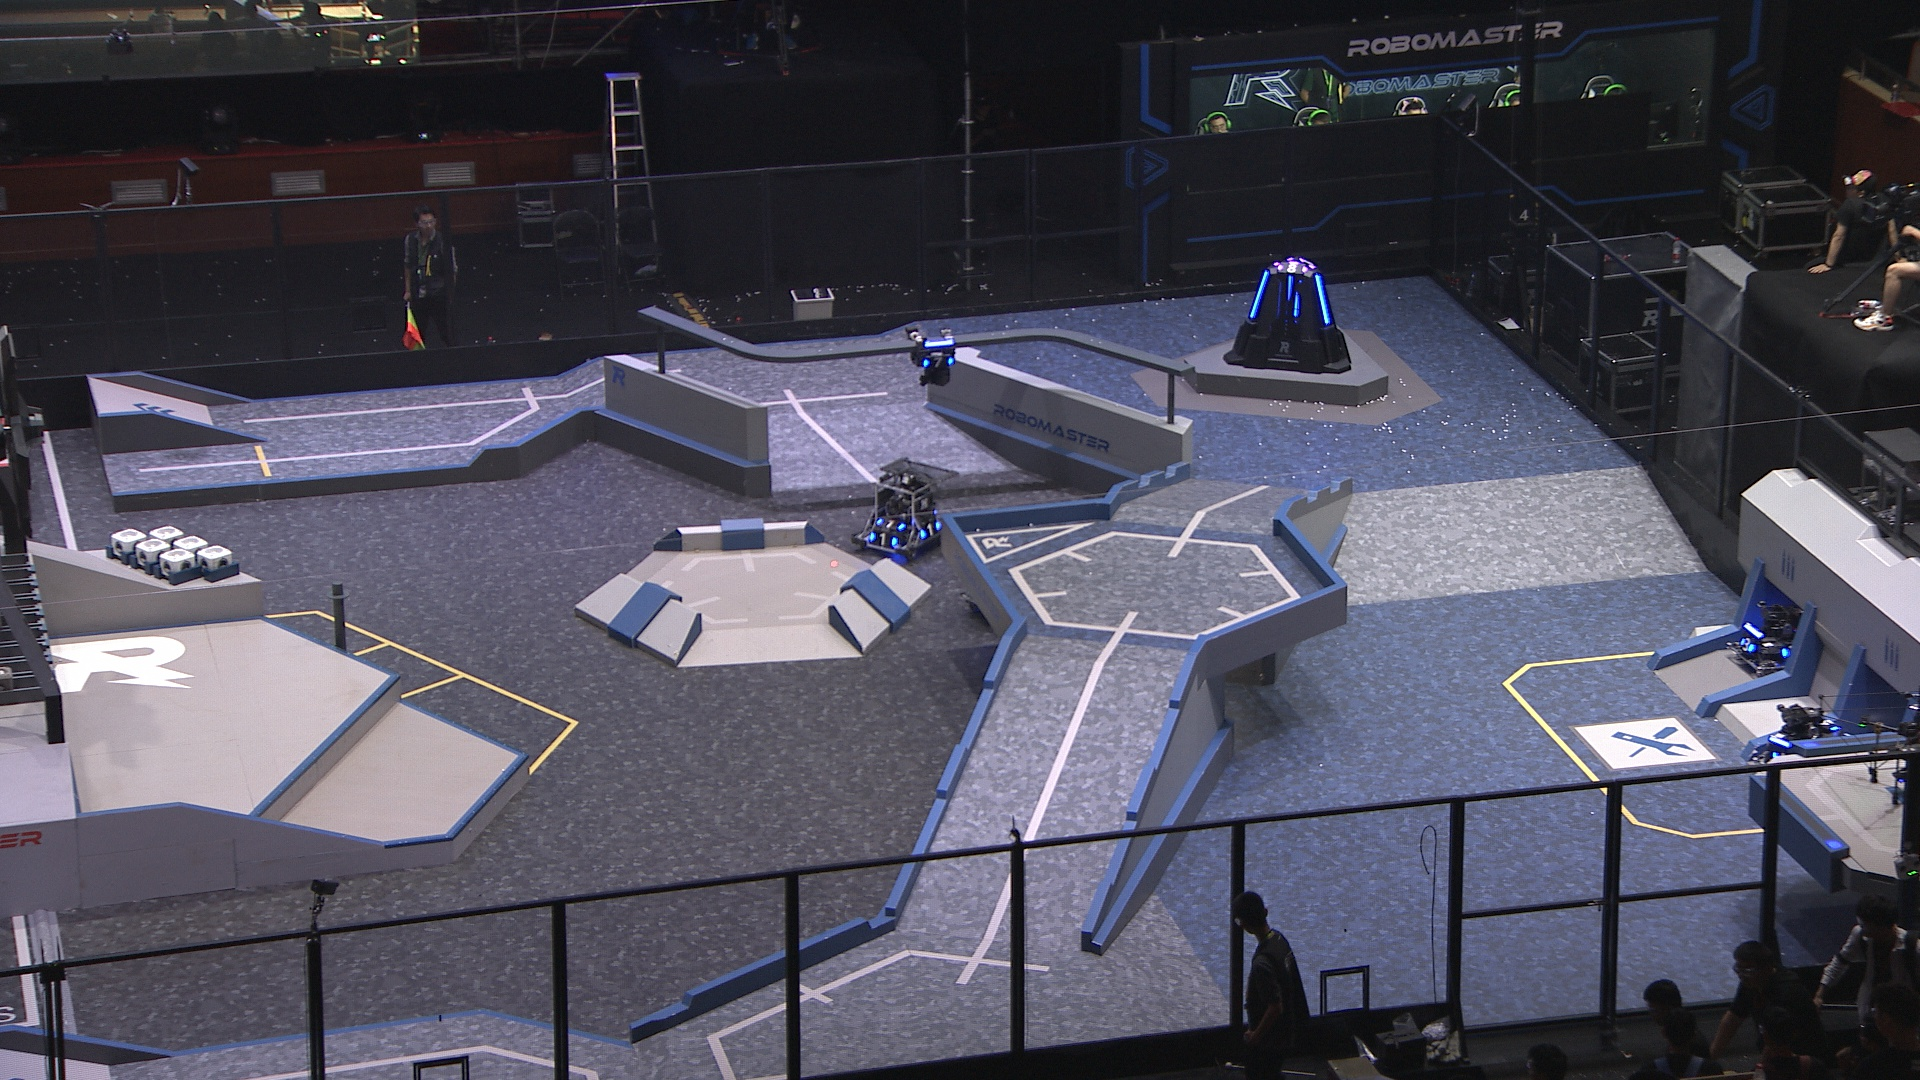armor: (1247, 268, 1269, 319), (1313, 273, 1331, 324), (874, 514, 907, 531), (866, 531, 897, 550), (918, 356, 955, 371), (918, 520, 942, 541), (1738, 636, 1754, 654), (1292, 291, 1300, 319)
base: (1222, 252, 1352, 372)
car: (851, 458, 956, 564), (1743, 702, 1849, 796), (1724, 603, 1813, 683)
ignore: (1275, 261, 1309, 276)
watcher: (907, 327, 959, 386)
